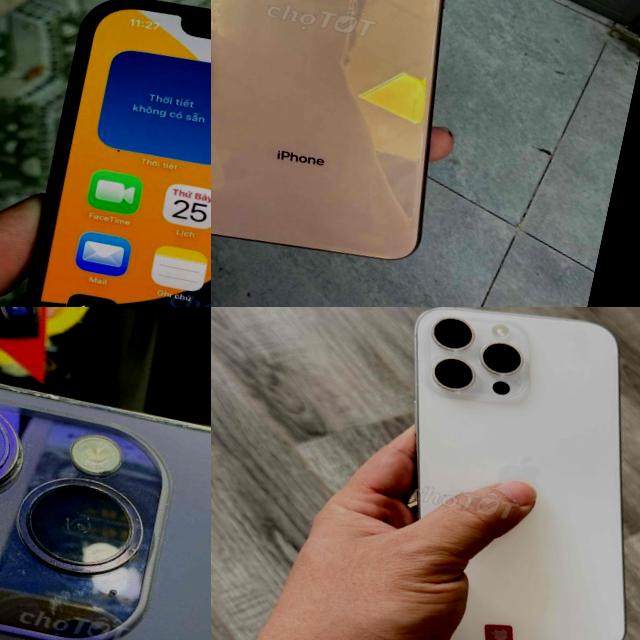gen_12_13: (0, 0, 211, 307)
gen_14: (0, 339, 211, 640)
gen_16: (414, 307, 624, 640)
gen_x_xs: (211, 0, 519, 285)
